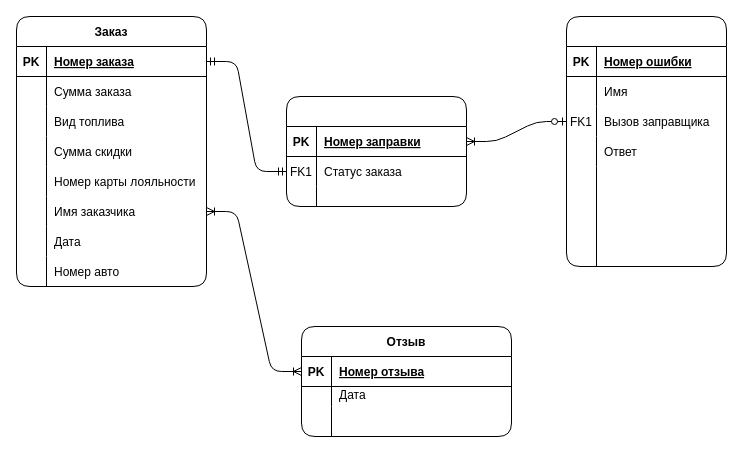
This 743x453 diagram has some shape labels left out. Here are the shapes that lost their labels. From the top down, the box of each, then its label:
(286, 96, 466, 206): Заправка
(566, 16, 726, 266): Ошибка
